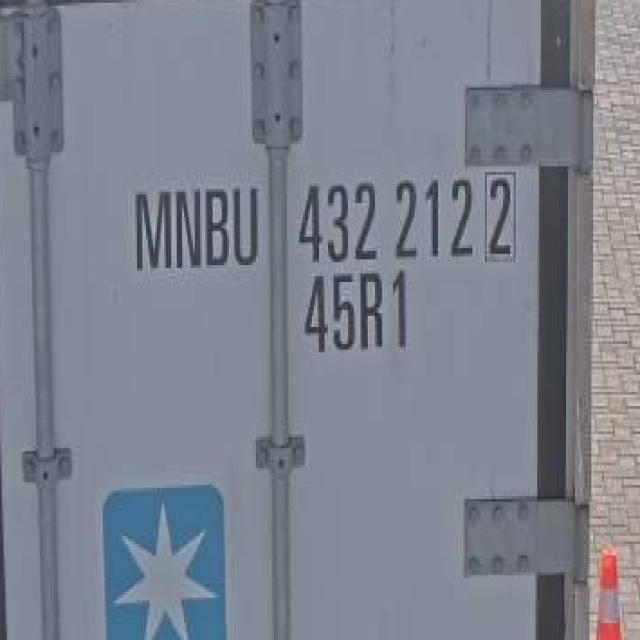dv: (480, 164, 520, 270)
owner: (126, 177, 264, 277)
serial: (296, 172, 476, 266)
size: (298, 270, 421, 360)
